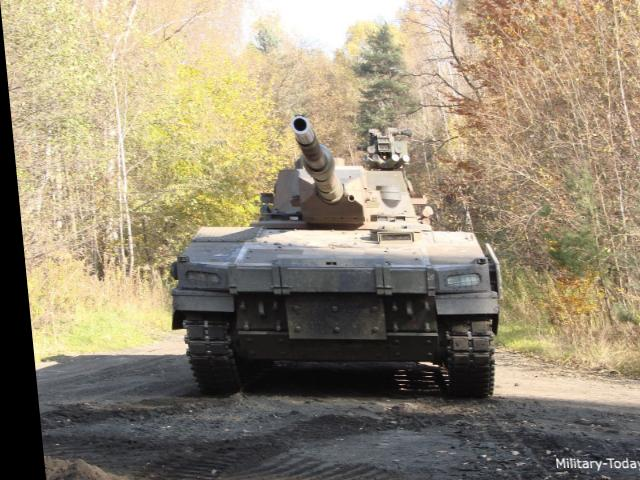tank: (146, 161, 526, 423)
